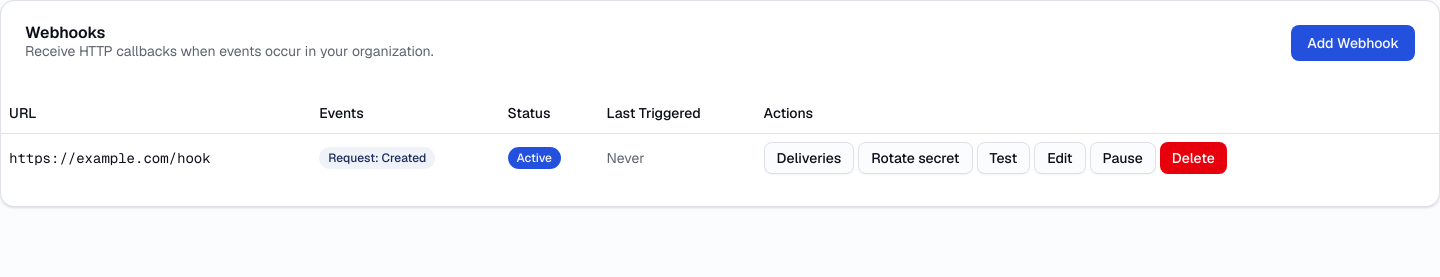
shows the tracked failure from Test
This screenshot has width=1440, height=277.
Click the button "Test": click(1003, 158) [977,142,1030,174]
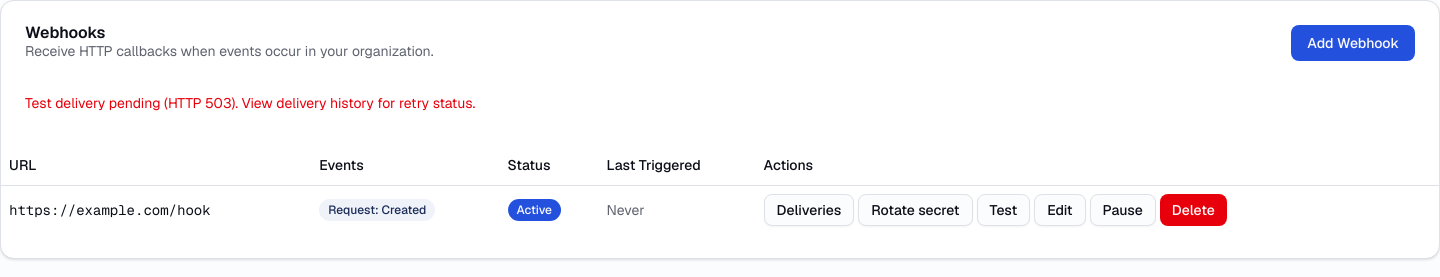
Result: the message shows "HTTP 503" at [25,94,475,112]
